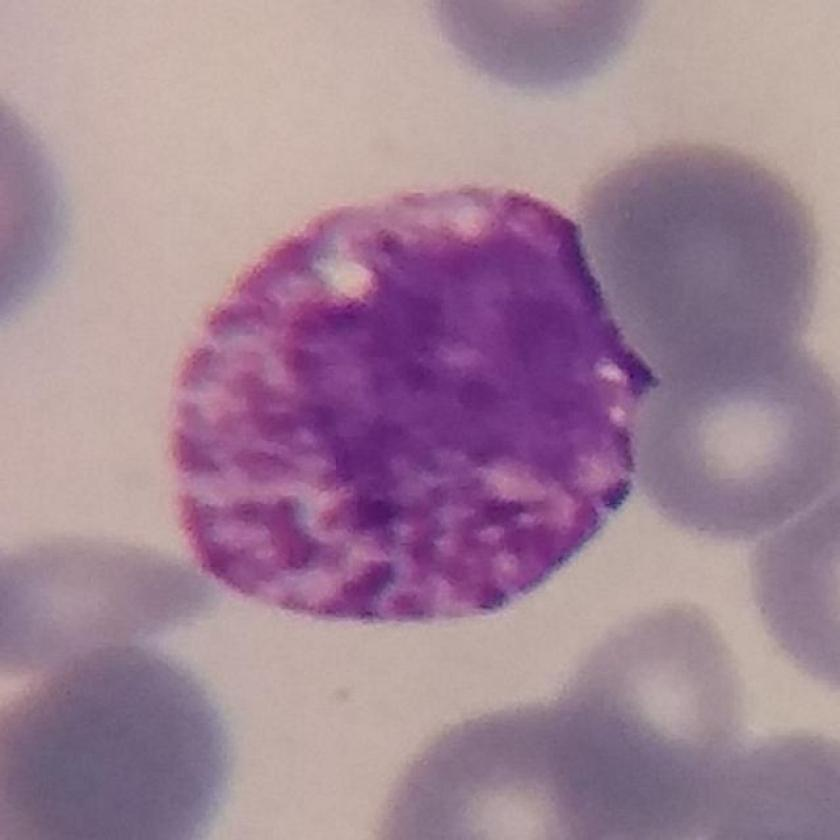basophil: (163, 174, 667, 631)
